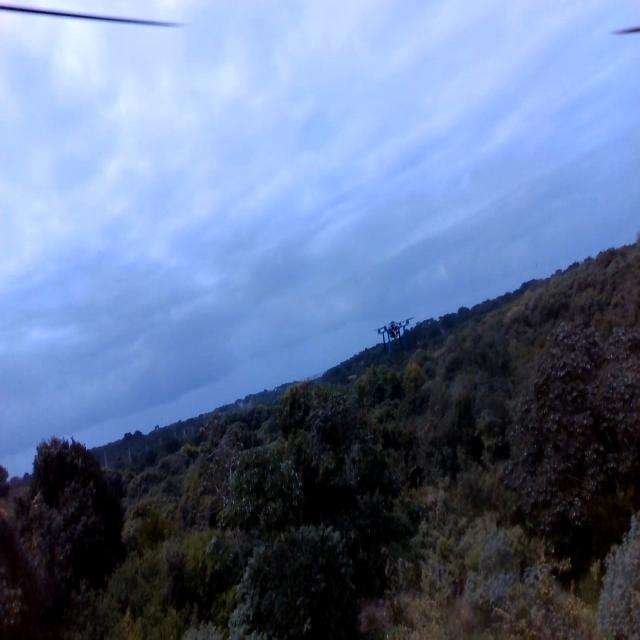-uav-: (364, 310, 426, 370)
